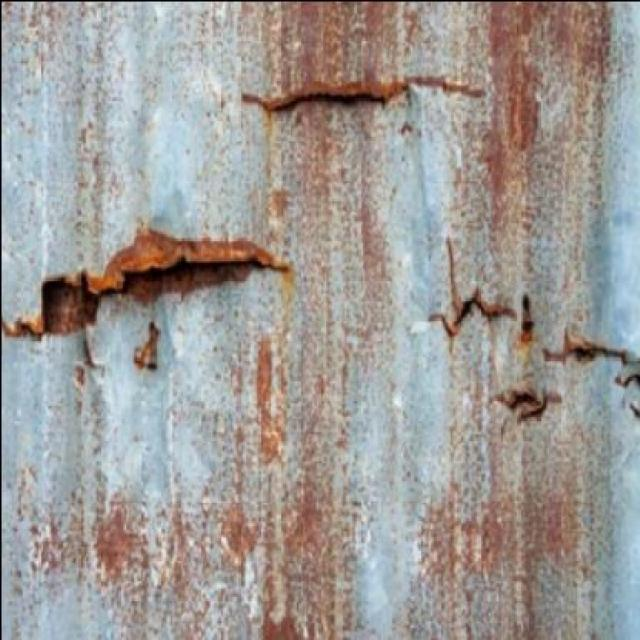Corrosion: (1, 0, 639, 639), (2, 223, 292, 370)
